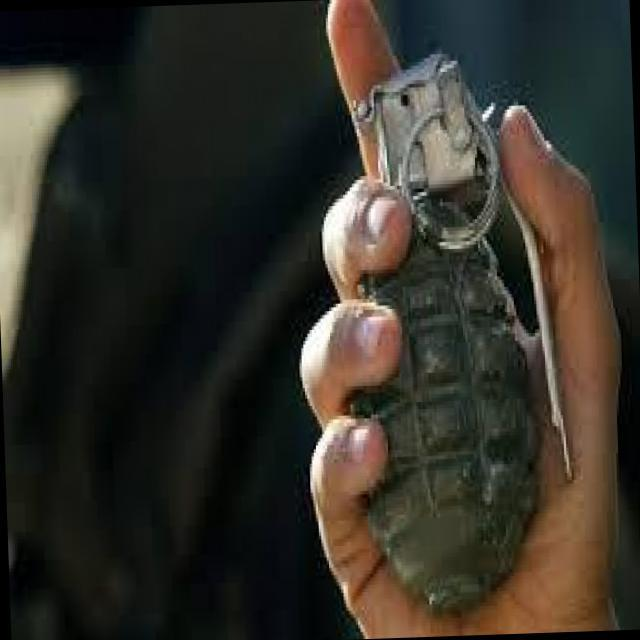grenade: (335, 44, 576, 616)
